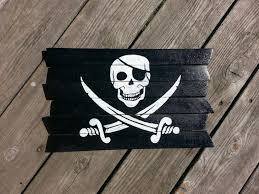Jolly Roger Flag: (38, 41, 221, 152)
